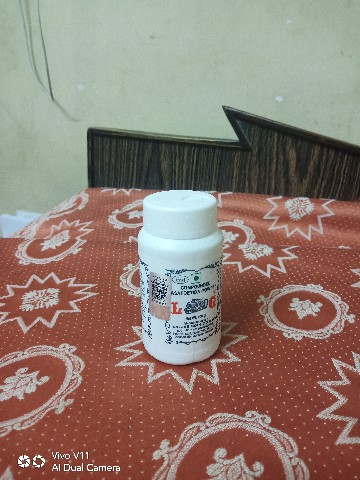lgasafoetidapowder large: (89, 170, 244, 375)
